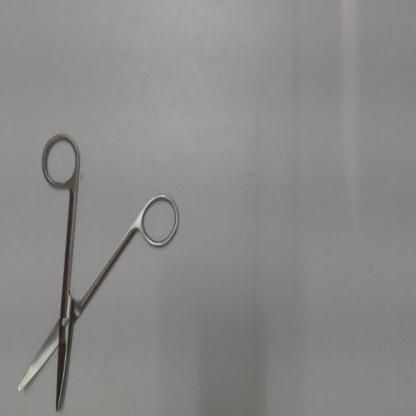Curved Mayo Scissors: (10, 129, 186, 414)
